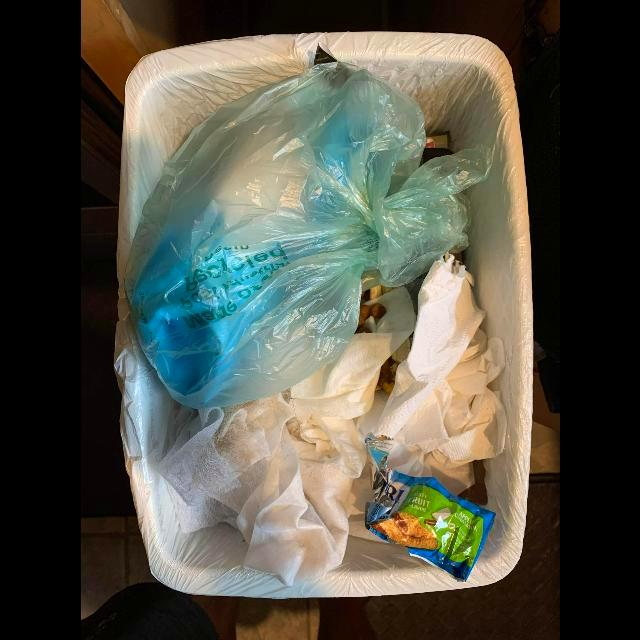food_wrapper: (364, 438, 496, 582)
paper: (157, 287, 416, 586), (373, 253, 507, 488)
plastic_bag: (124, 62, 489, 412)
